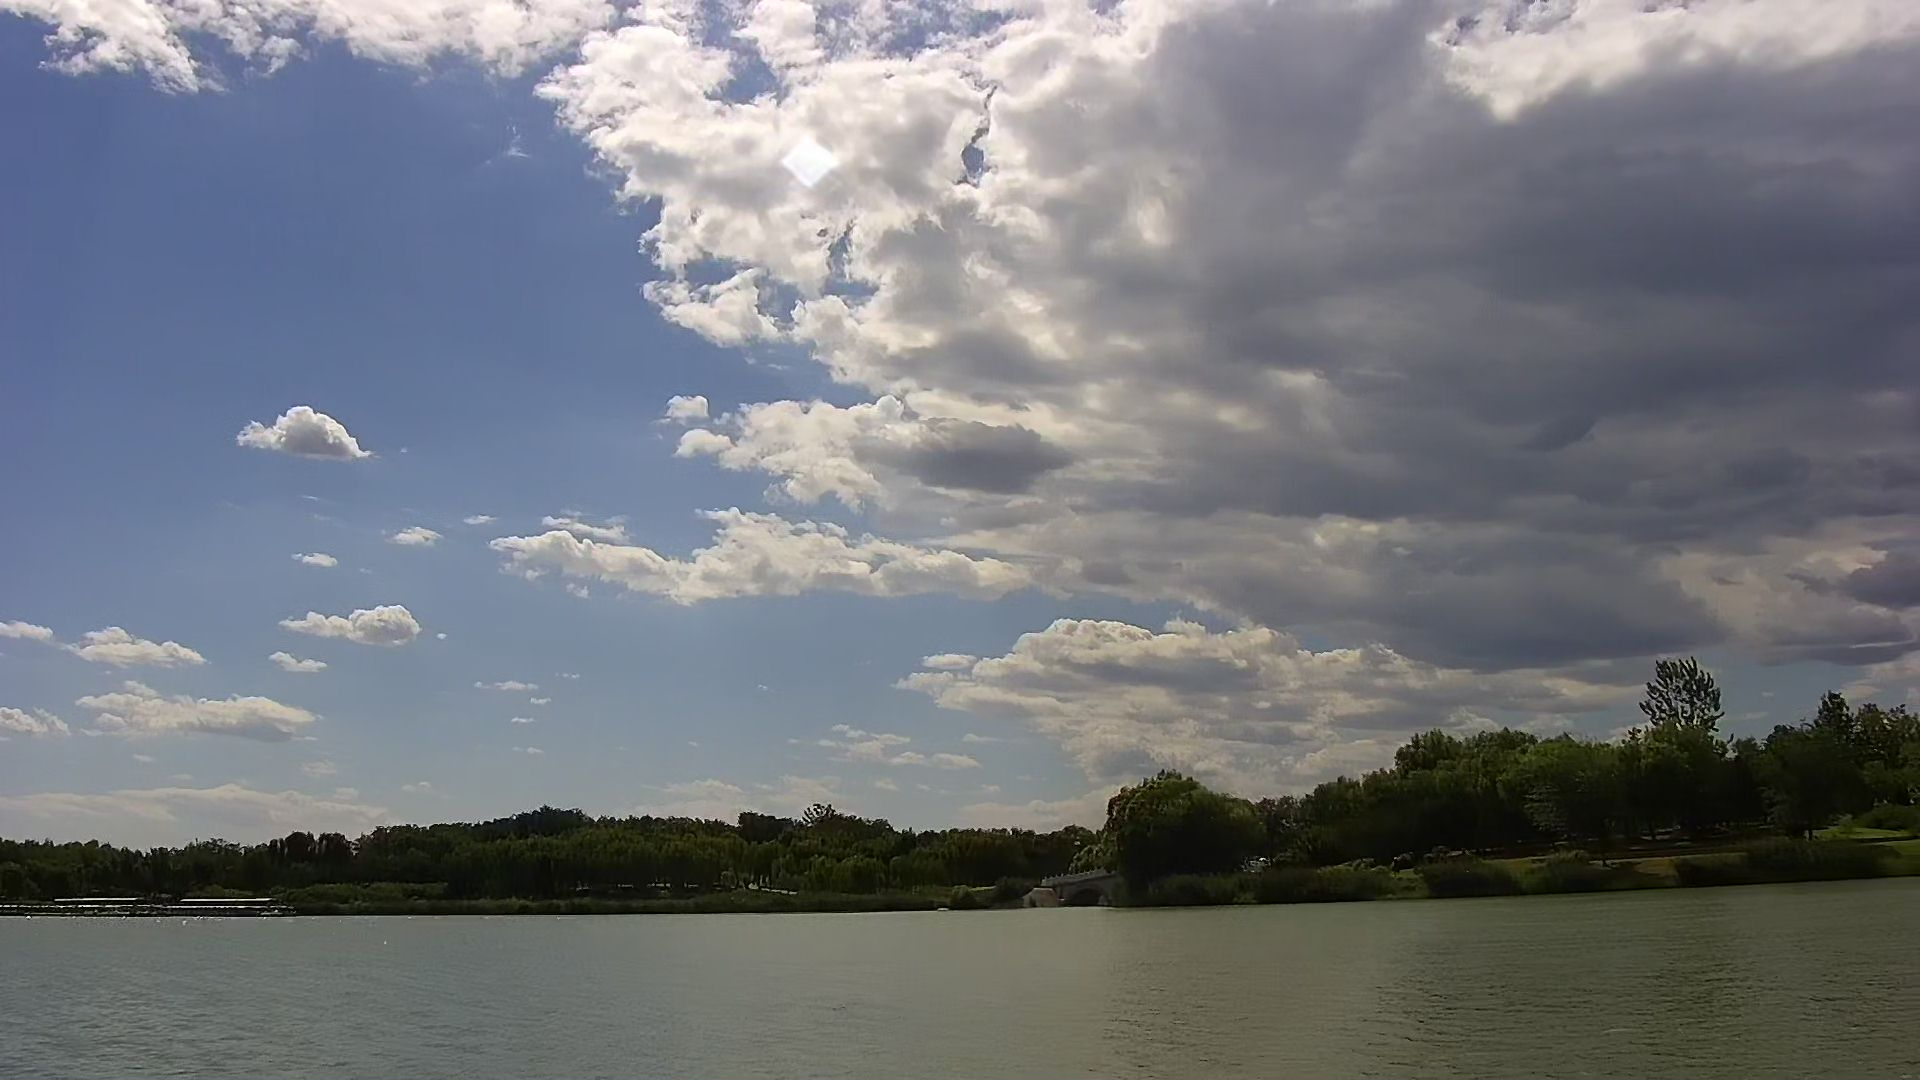bridge: (1043, 864, 1120, 909)
harbor: (18, 894, 293, 922)
